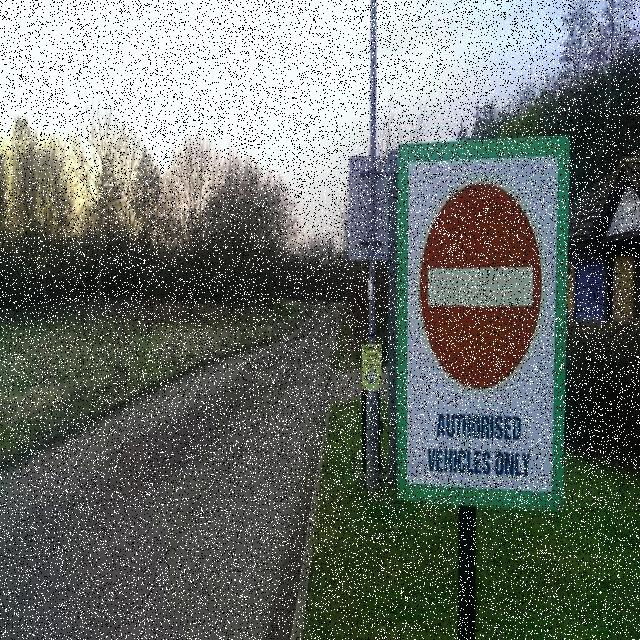no entry: (418, 182, 541, 388)
